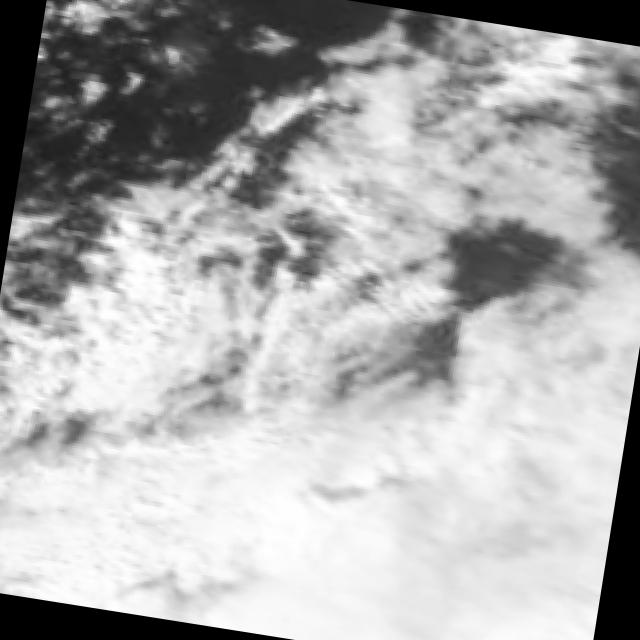CB: (0, 424, 219, 623), (215, 372, 462, 545), (206, 462, 422, 640), (447, 329, 638, 518), (398, 481, 613, 640), (52, 286, 239, 436)
